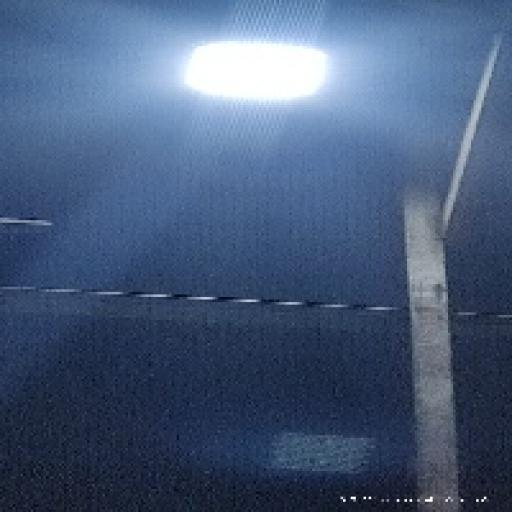Working: (171, 31, 332, 120)
